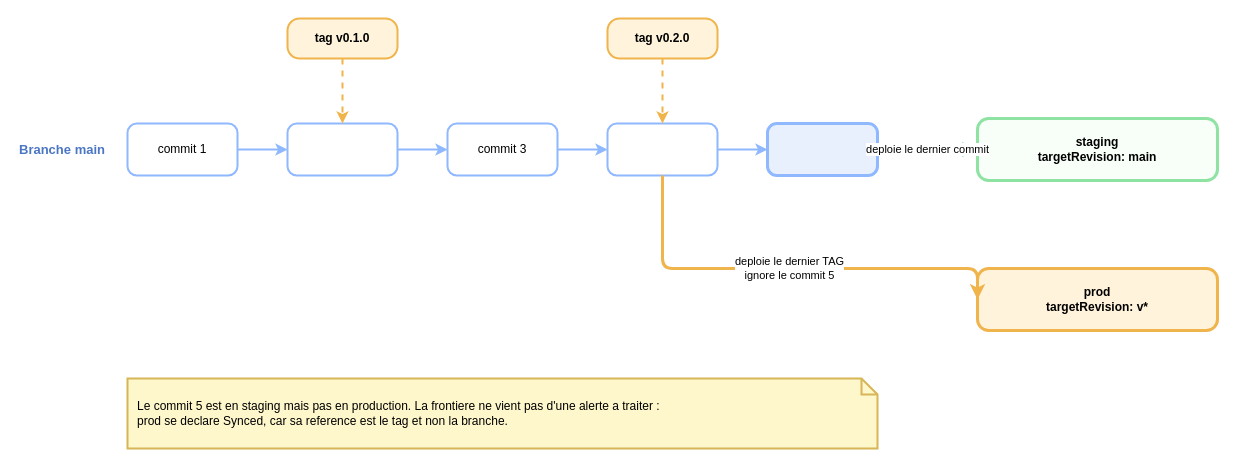
Image size: 1236x466. Some labels were removed from this diagram. The shapes that lost their labels are listed below. From the top down, each one's box as (x1, y1, x2, y2) in pixels, then its label:
(286, 122, 398, 176): commit 2
(606, 122, 718, 176): commit 4
(766, 122, 878, 176): commit 5 dernier merge
